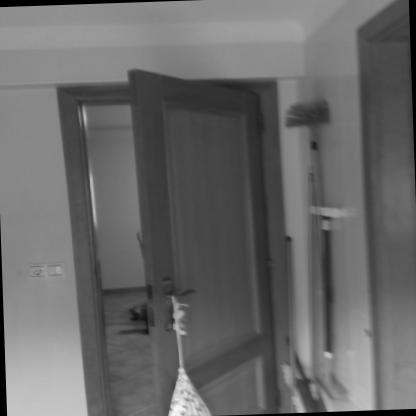semi: (41, 55, 309, 416)
